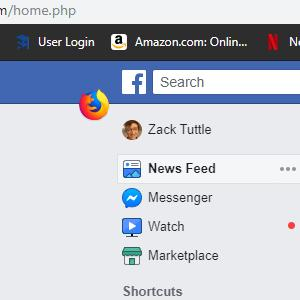firefox: (79, 88, 109, 120)
